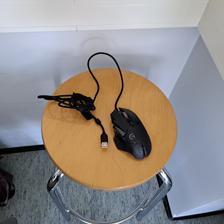mouse: (108, 107, 152, 160)
